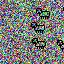sheep: (36, 7, 50, 19), (31, 22, 45, 34), (32, 38, 46, 49)
